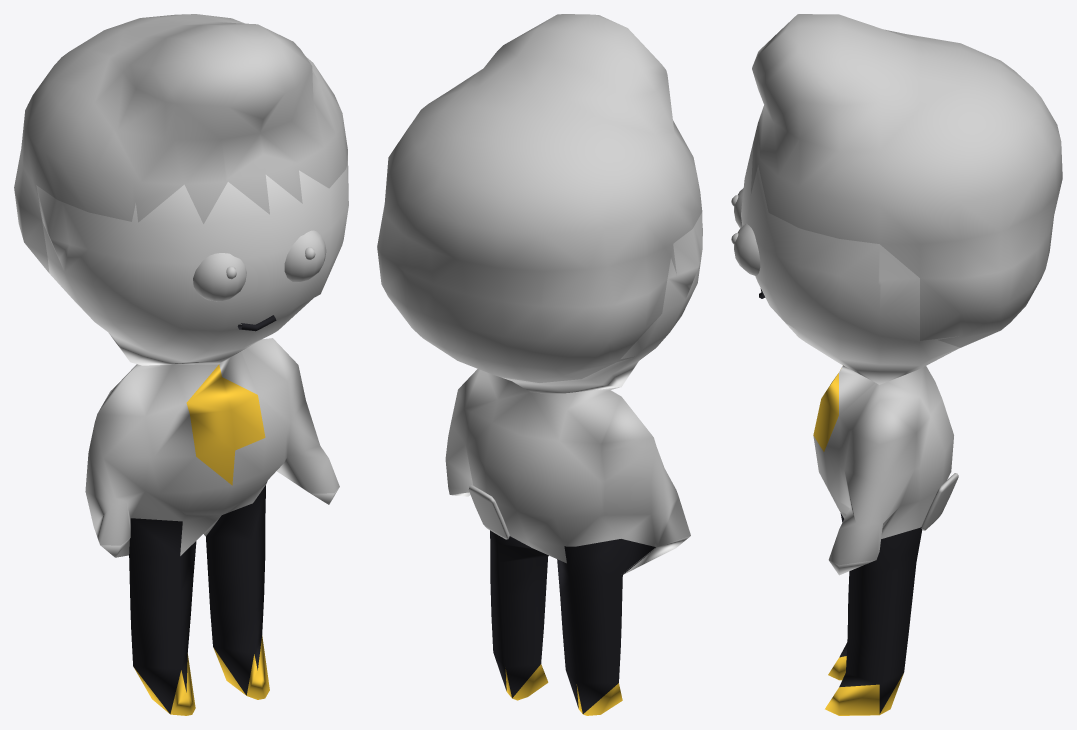
The model's file is idol_boy_b_lod.fbx.
3 views of the same model, side by side, from view 1: azimuth 30°, elevation 25°; view 2: azimuth 150°, elevation 25°; view 3: azimuth 270°, elevation 25° (orthographic). The views are drawn at different scales.
Visible parts, largest first — view 1: idol_boy_b_lod; view 2: idol_boy_b_lod; view 3: idol_boy_b_lod.
Boxes of the visible parts, x1=… form: idol_boy_b_lod: x1=14, y1=14, x2=348, y2=715; idol_boy_b_lod: x1=377, y1=14, x2=702, y2=715; idol_boy_b_lod: x1=731, y1=14, x2=1062, y2=715.
Size of the model in its own units: 0.5771 by 1.28 by 0.5733.
